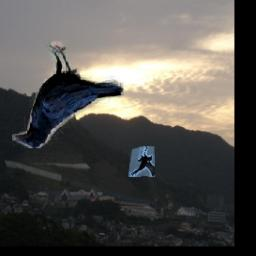Crow: (13, 40, 125, 148), (128, 146, 155, 177)
